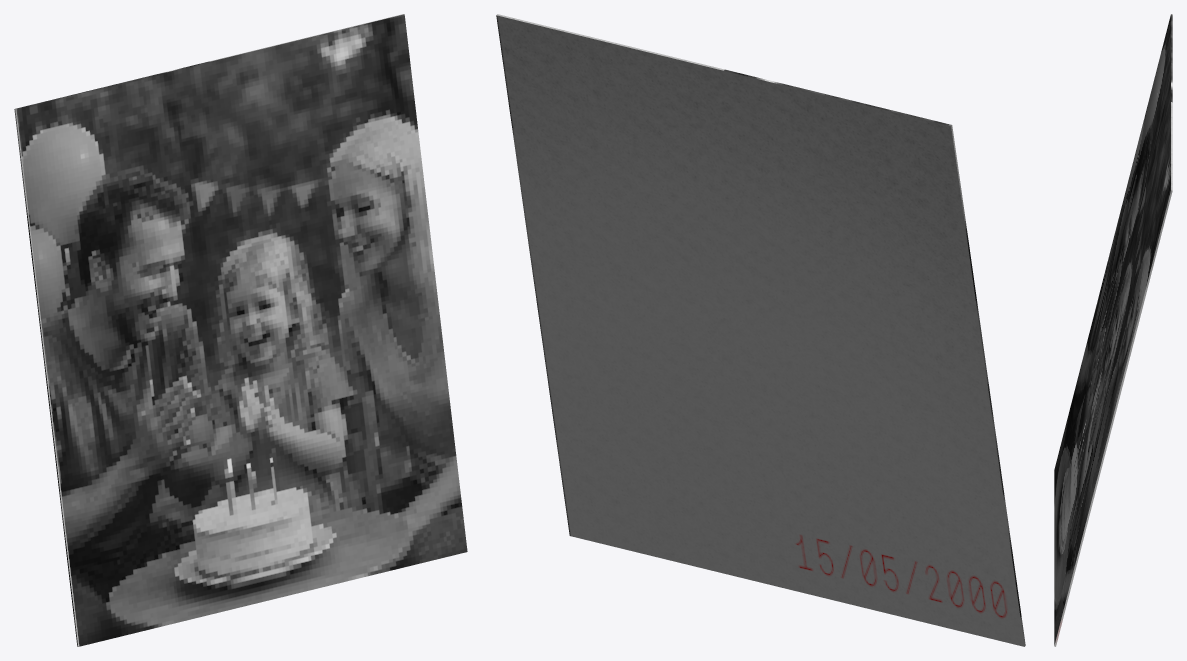
File: photo.glb
The picture shows the model from 3 angles, left to right: view 1: azimuth 30°, elevation 25°; view 2: azimuth 150°, elevation 25°; view 3: azimuth 270°, elevation 25°; orthographic projection. The views are drawn at different scales.
Parts seen in each view (by area): view 1: Fame.001; view 2: Fame.001; view 3: Fame.001.
Boxes of the visible parts, x1,y1,x2,y2 form: Fame.001: (14,14,467,646); Fame.001: (496,14,1025,646); Fame.001: (1054,14,1172,646).
Bounding box in the file's own units: 0.3351 × 0.4048 × 0.0952.
1 material, 1 textured.
